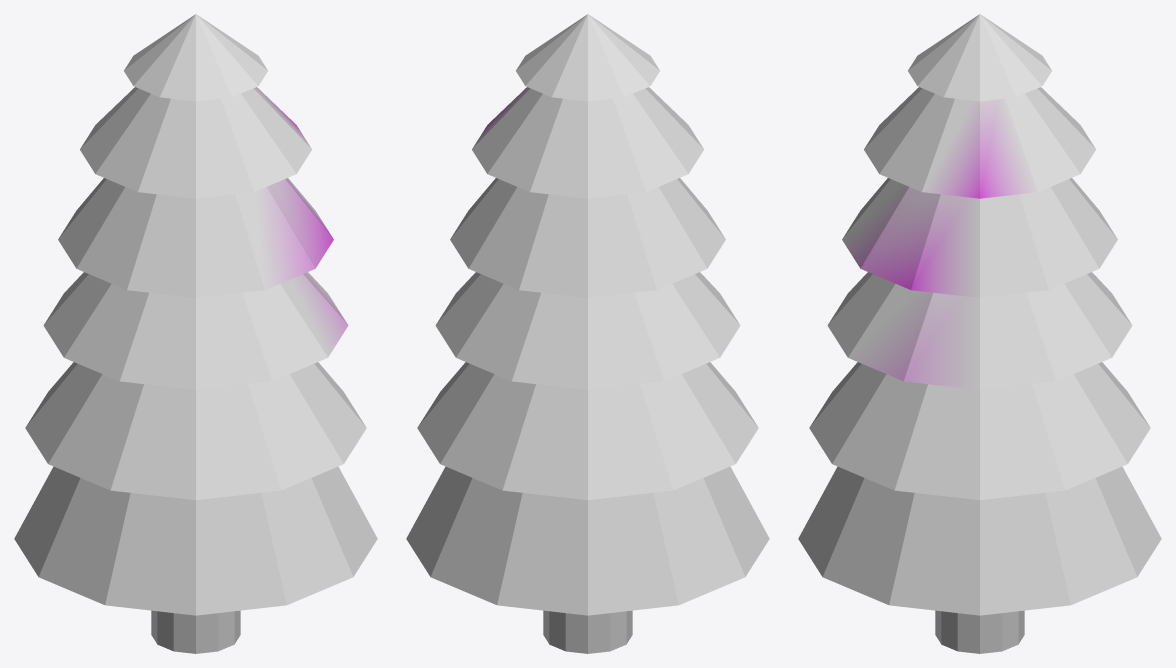
File: tree.dae
3 views of the same model, side by side, from view 1: azimuth 30°, elevation 25°; view 2: azimuth 150°, elevation 25°; view 3: azimuth 270°, elevation 25° (orthographic).
Parts seen in each view (by area): view 1: Cylinder; view 2: Cylinder; view 3: Cylinder.
Part boxes in pixels (box(x1,y1,x2,y2)): Cylinder: box(14, 14, 377, 653); Cylinder: box(406, 14, 769, 653); Cylinder: box(798, 14, 1161, 653).
Size of the model in its own units: 1.29 by 1.29 by 2.44.
